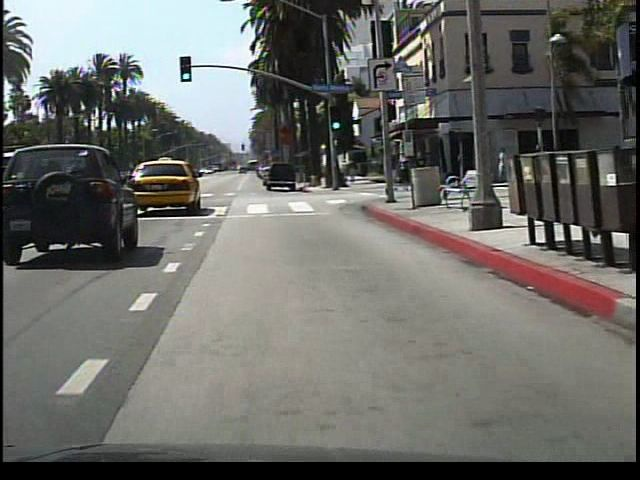person: (493, 143, 512, 187), (391, 149, 407, 195)
